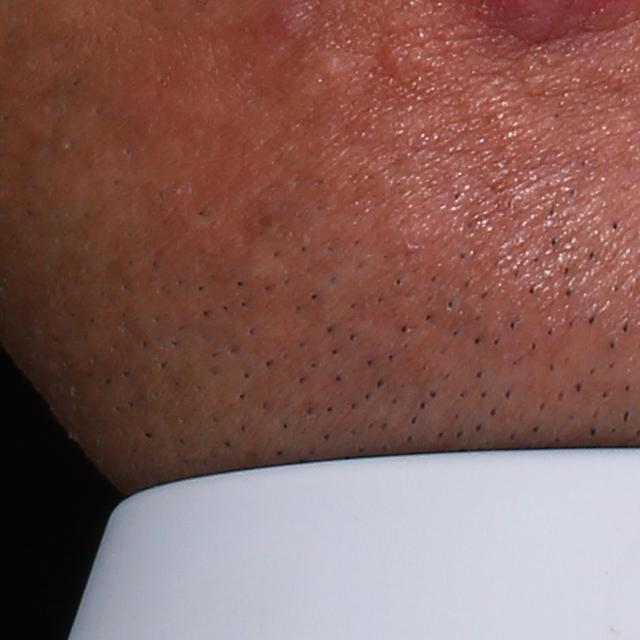hypertrophic_scar: (293, 42, 351, 88)
papule: (260, 5, 313, 40)
